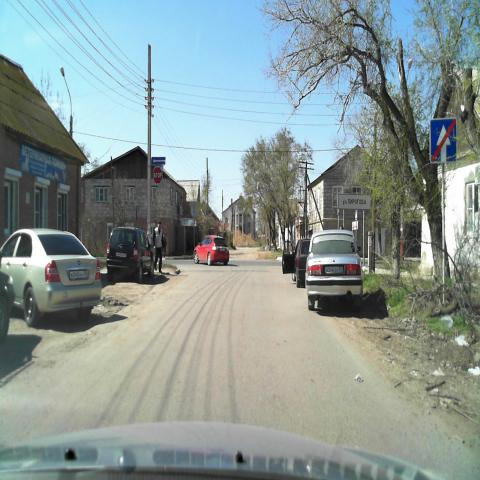5_6: (429, 118, 456, 164)
5_7_2: (151, 156, 165, 166)
